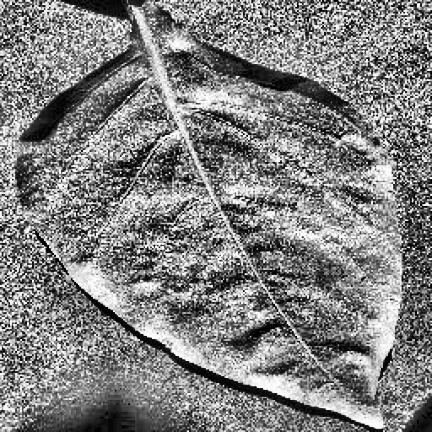leaf: (17, 0, 402, 427)
